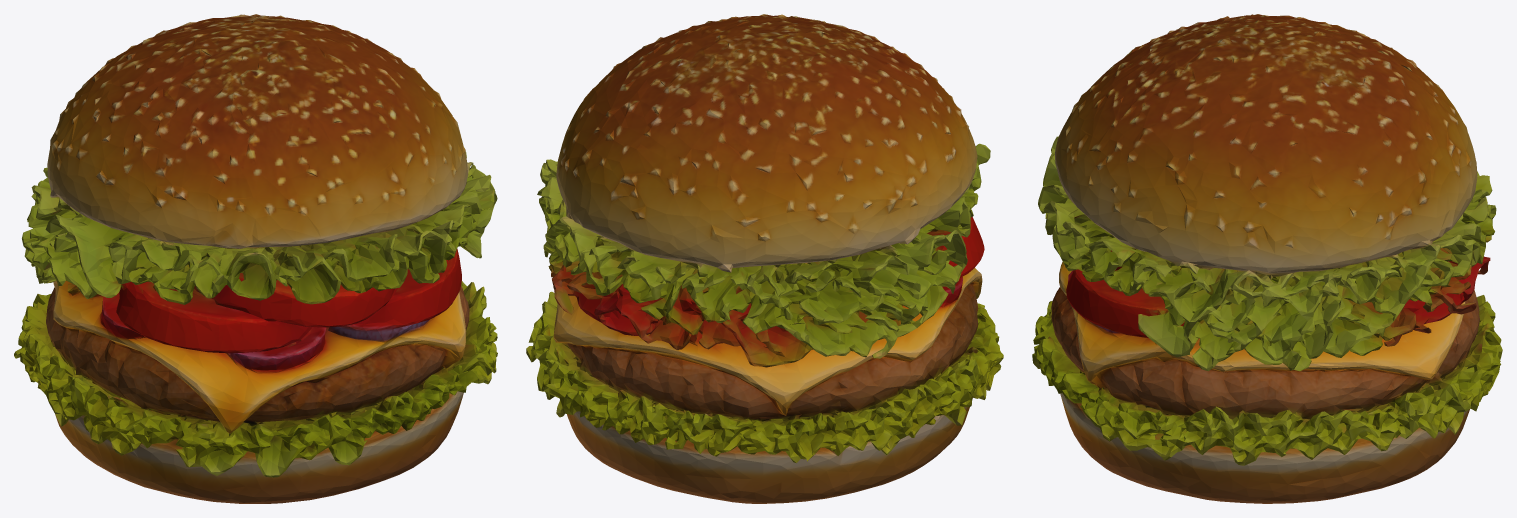
The model's file is burger.glb.
The picture shows the model from 3 angles, left to right: view 1: azimuth 30°, elevation 25°; view 2: azimuth 150°, elevation 25°; view 3: azimuth 270°, elevation 25°; orthographic projection.
Parts seen in each view (by area): view 1: Node1; view 2: Node1; view 3: Node1.
Part boxes in pixels (x1,y1,x2,y2): Node1: (14, 14, 497, 503); Node1: (526, 14, 1003, 503); Node1: (1032, 14, 1502, 503).
Size of the model in its own units: 0.9485 by 0.8881 by 0.9407.
Materials: 1 (1 with a texture image).
